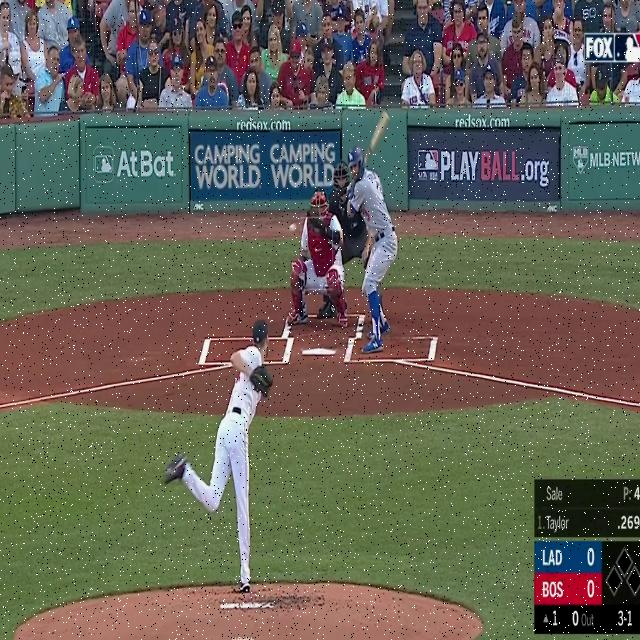baseball: (288, 222, 297, 234)
